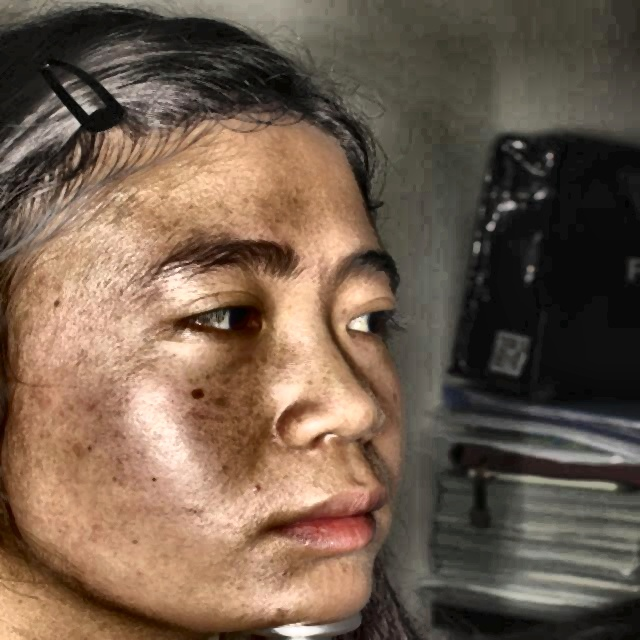comedone: (278, 606, 295, 620)
